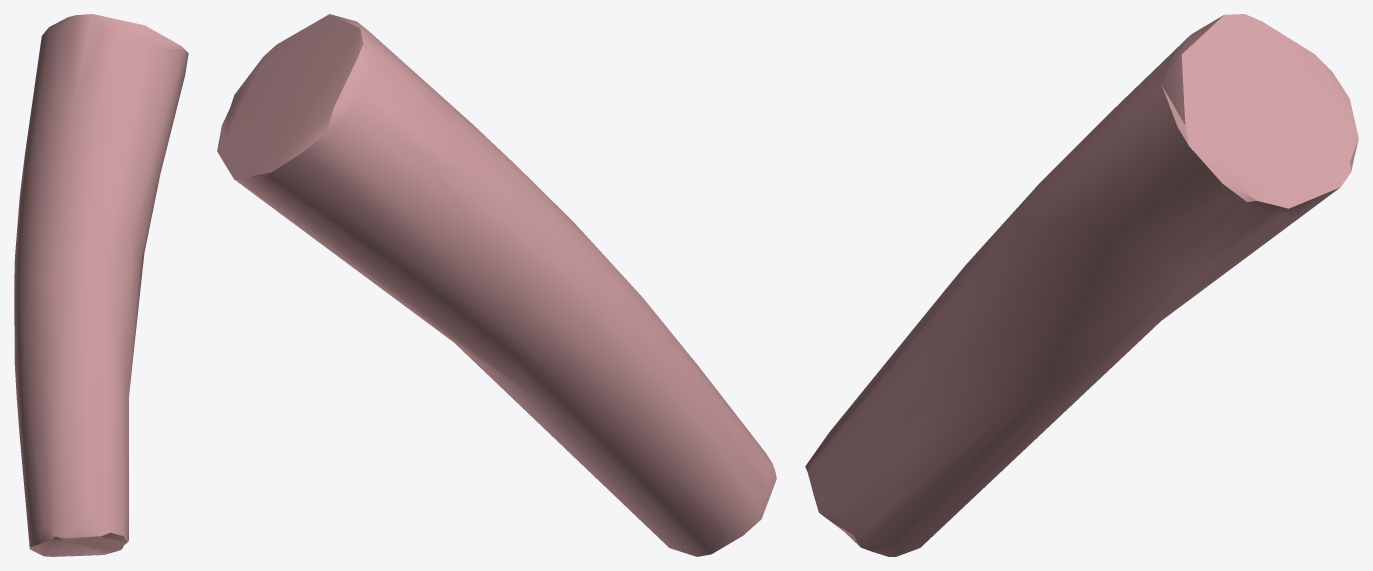
File: fma68212_fj2511.glb
3 views of the same model, side by side, from view 1: azimuth 30°, elevation 25°; view 2: azimuth 150°, elevation 25°; view 3: azimuth 270°, elevation 25° (orthographic). The views are drawn at different scales.
Visible parts, largest first — view 1: FMA68212_FJ2511; view 2: FMA68212_FJ2511; view 3: FMA68212_FJ2511.
Part boxes in pixels (<box>): FMA68212_FJ2511: <box>14,14,188,556</box>; FMA68212_FJ2511: <box>217,14,776,556</box>; FMA68212_FJ2511: <box>805,14,1358,556</box>.
Size of the model in its own units: 0.00627 by 0.00948 by 0.00769.
